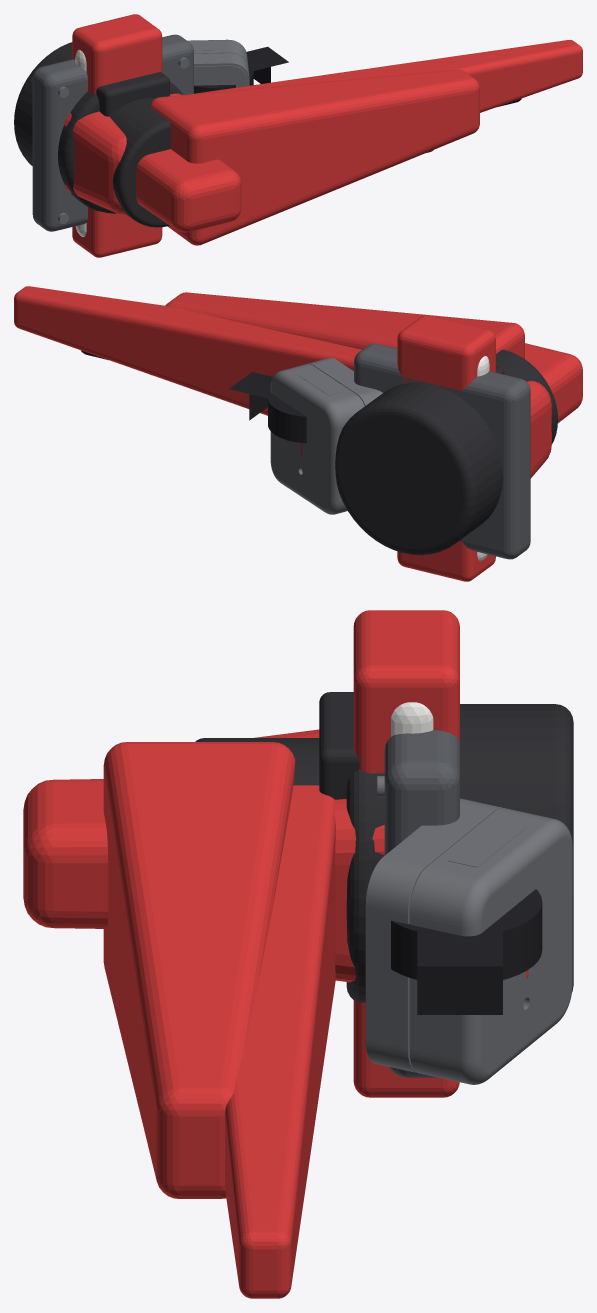
The model's file is arm.glb.
3 views of the same model, one above another, from view 1: azimuth 30°, elevation 25°; view 2: azimuth 150°, elevation 25°; view 3: azimuth 270°, elevation 25° (orthographic). The views are drawn at different scales.
Parts seen in each view (by area): view 1: b3, b1, b7, b2, b4, b5; view 2: b3, b4, b7, b1, b2, b5; view 3: b3, b7, b4, b2, b5, b1.
Part boxes in pixels (x1=…): b3: x1=14, y1=42, x2=479, y2=245; b1: x1=32, y1=34, x2=193, y2=231; b7: x1=72, y1=14, x2=249, y2=257; b2: x1=96, y1=72, x2=241, y2=232; b4: x1=191, y1=40, x2=582, y2=112; b5: x1=194, y1=46, x2=288, y2=93; b3: x1=165, y1=292, x2=551, y2=555; b4: x1=14, y1=286, x2=361, y2=415; b7: x1=270, y1=315, x2=495, y2=581; b1: x1=354, y1=343, x2=557, y2=559; b2: x1=496, y1=343, x2=582, y2=422; b5: x1=229, y1=372, x2=306, y2=458; b3: x1=103, y1=704, x2=573, y2=1198; b7: x1=353, y1=610, x2=572, y2=1097; b4: x1=225, y1=785, x2=335, y2=1298; b2: x1=23, y1=692, x2=359, y2=928; b5: x1=391, y1=889, x2=542, y2=1014; b1: x1=195, y1=730, x2=459, y2=1077.
Bounding box in the file's own units: 0.2162 × 0.0888 × 0.1027.
